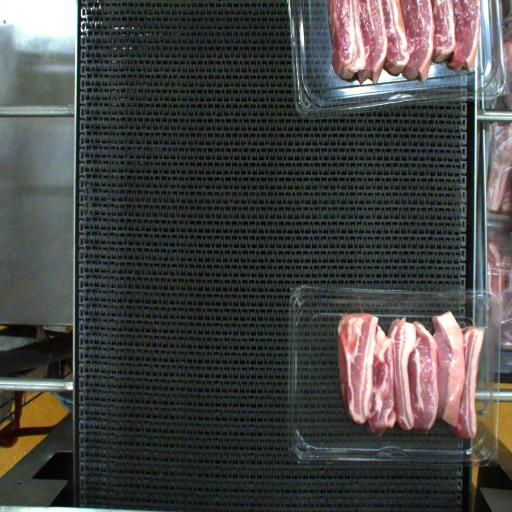twisted-meat: (431, 314, 465, 430)
